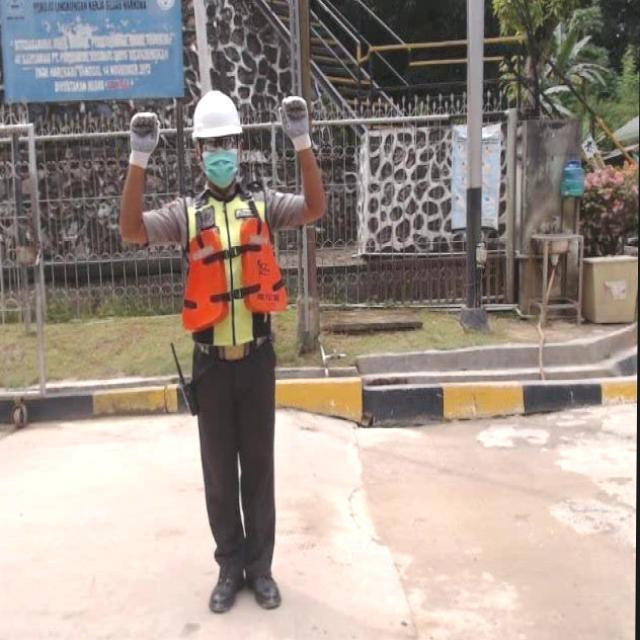goggles_on: (197, 134, 242, 154)
